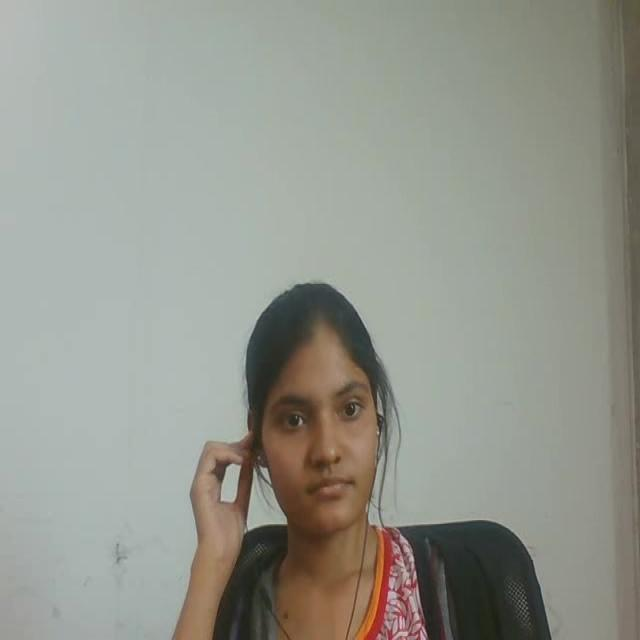Engaged: (202, 260, 426, 564)
